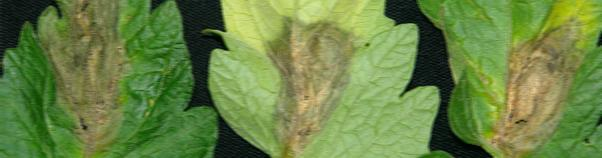Tomato mold leaf: (212, 0, 438, 158), (0, 0, 201, 158), (414, 0, 602, 158)
